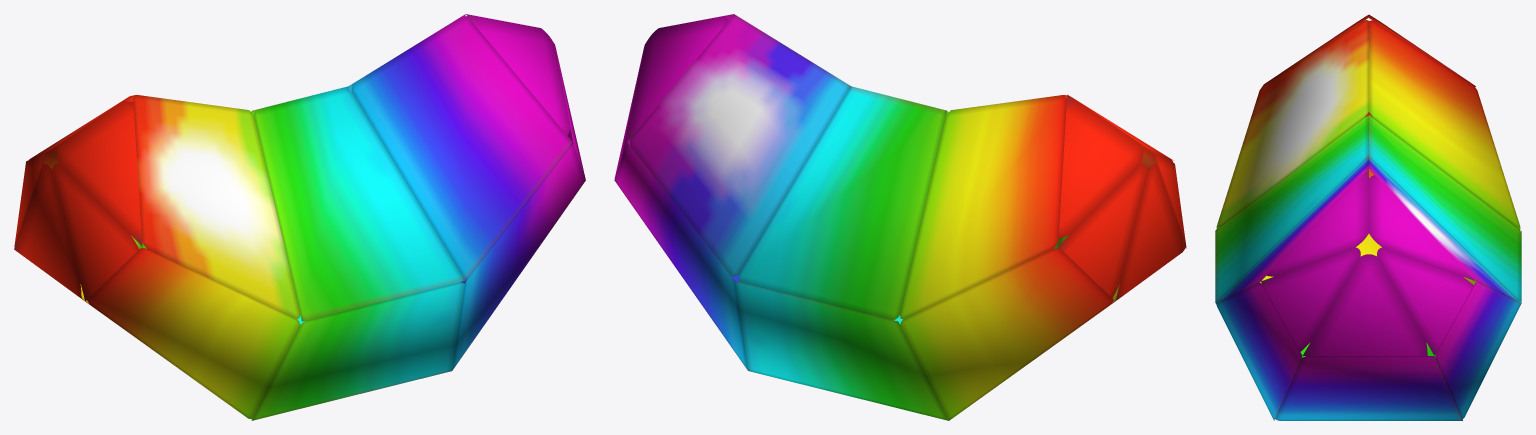
3 renders of one model, left to right at view 1: azimuth 30°, elevation 25°; view 2: azimuth 150°, elevation 25°; view 3: azimuth 270°, elevation 25°, orthographic. The views are drawn at different scales.
Parts seen in each view (by area): view 1: T1L8M006_23; view 2: T1L8M006_23; view 3: T1L8M006_23.
Boxes of the visible parts, x1,y1,x2,y2 form: T1L8M006_23: (14,14,585,420); T1L8M006_23: (614,14,1186,420); T1L8M006_23: (1215,14,1521,420).
Size of the model in its own units: 0.5547 by 0.3213 by 0.3154.
